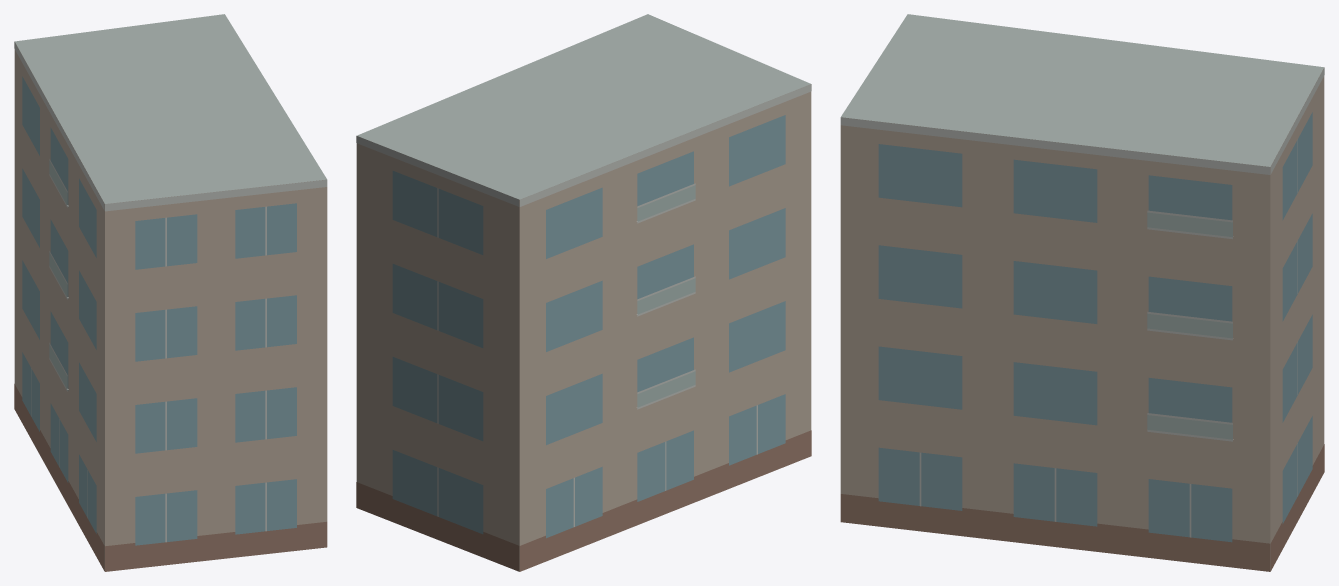
The model's file is survey-upis-32778720.glb.
3 renders of one model, left to right at view 1: azimuth 30°, elevation 25°; view 2: azimuth 150°, elevation 25°; view 3: azimuth 270°, elevation 25°, orthographic. The views are drawn at different scales.
Visible parts, largest first — view 1: survey-upis-32778720.tmp; view 2: survey-upis-32778720.tmp; view 3: survey-upis-32778720.tmp.
Boxes of the visible parts, <box> form: survey-upis-32778720.tmp: <box>14,14,327,571</box>; survey-upis-32778720.tmp: <box>356,14,811,571</box>; survey-upis-32778720.tmp: <box>840,14,1324,571</box>.
Bounding box in the file's own units: 9.89 × 12.2 × 13.22.
